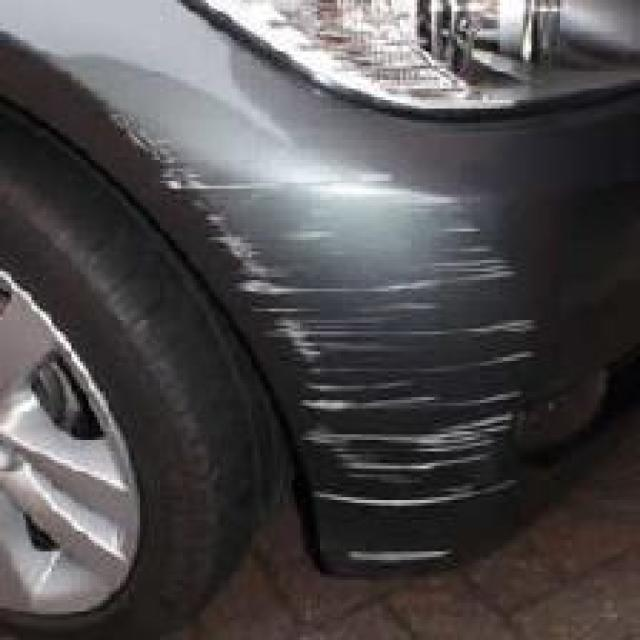damaged: (103, 111, 543, 586)
